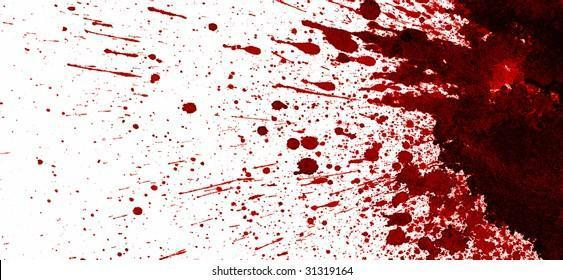Fire: (21, 0, 563, 261)
